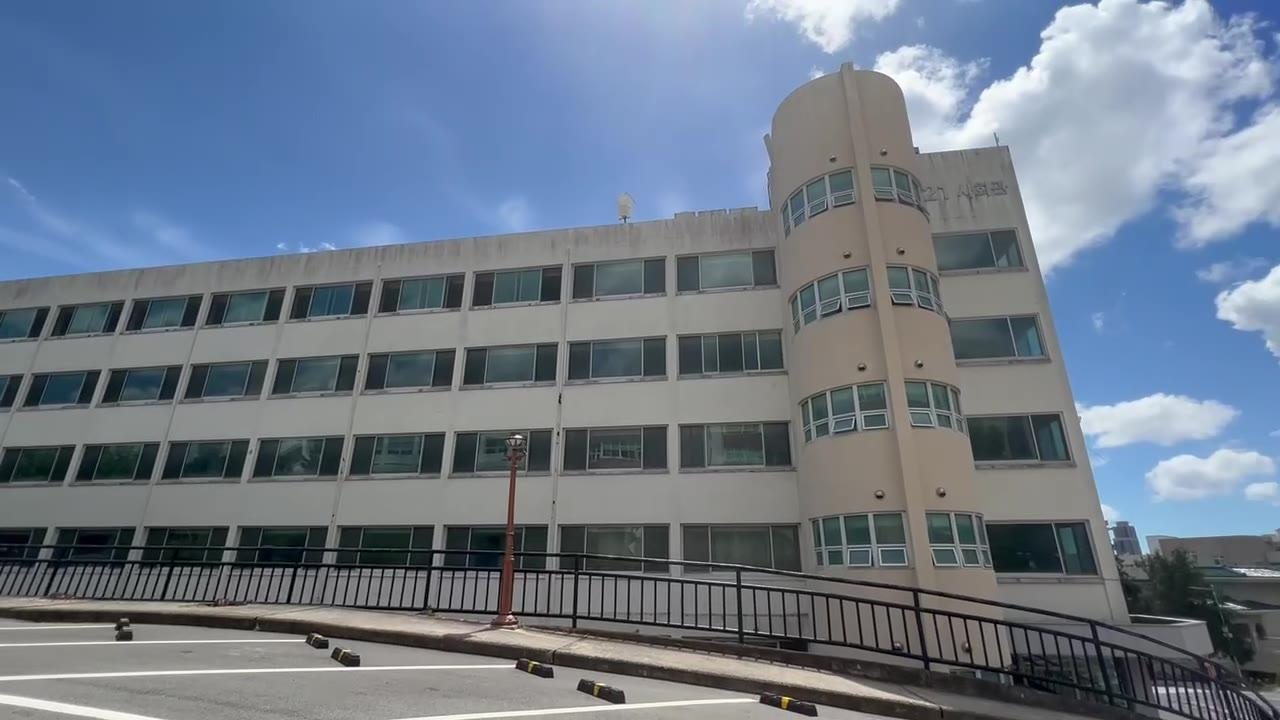building: (16, 106, 1095, 610)
